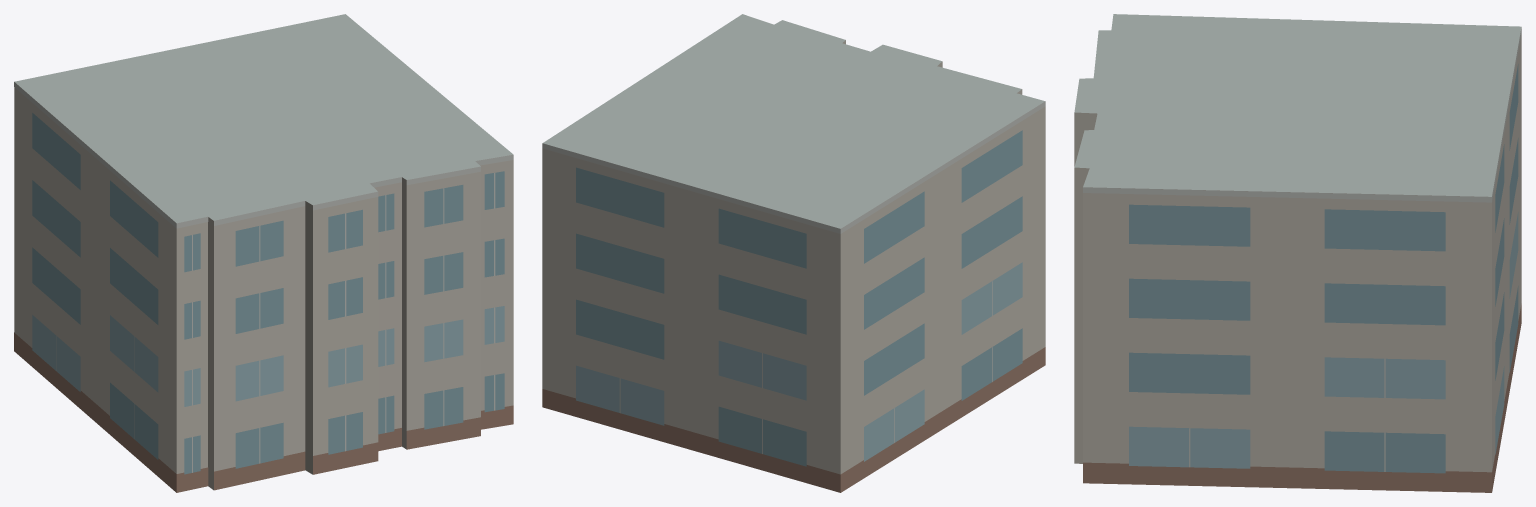
Rendered from survey-upis-32581266.glb.
3 views of the same model, side by side, from view 1: azimuth 30°, elevation 25°; view 2: azimuth 150°, elevation 25°; view 3: azimuth 270°, elevation 25° (orthographic). The views are drawn at different scales.
Parts seen in each view (by area): view 1: survey-upis-32581266.tmp; view 2: survey-upis-32581266.tmp; view 3: survey-upis-32581266.tmp.
Boxes of the visible parts, x1=… form: survey-upis-32581266.tmp: x1=14, y1=14, x2=513, y2=492; survey-upis-32581266.tmp: x1=542, y1=14, x2=1045, y2=492; survey-upis-32581266.tmp: x1=1074, y1=14, x2=1521, y2=492.
Size of the model in its own units: 16.7 by 12.6 by 17.26.
